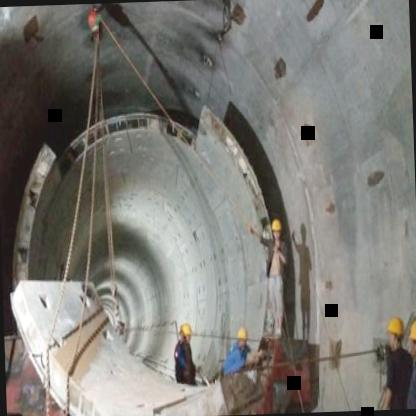helmet: (386, 314, 405, 352), (405, 318, 416, 362), (233, 324, 250, 350), (178, 322, 194, 346), (269, 215, 282, 240)
